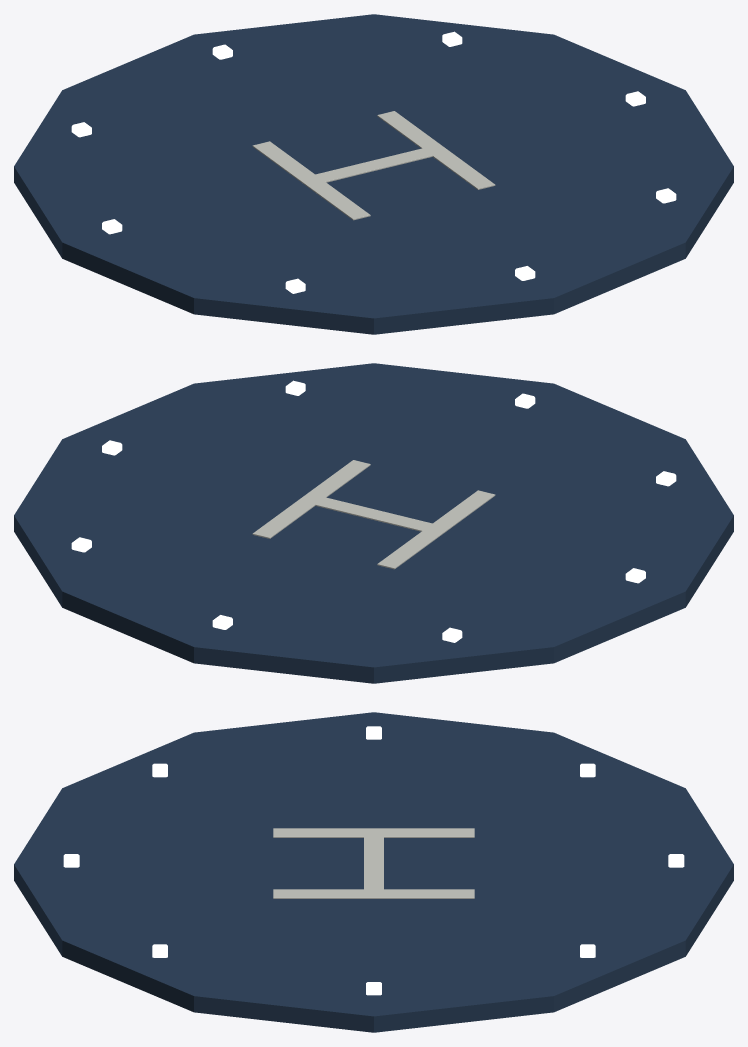
The model's file is landscape-landing-pad.lod0.glb.
3 renders of one model, top to bottom at view 1: azimuth 30°, elevation 25°; view 2: azimuth 150°, elevation 25°; view 3: azimuth 270°, elevation 25°, orthographic.
Parts seen in each view (by area): view 1: landscape-landing-pad__body; view 2: landscape-landing-pad__body; view 3: landscape-landing-pad__body.
Part boxes in pixels (<box>): landscape-landing-pad__body: <box>14,14,733,334</box>; landscape-landing-pad__body: <box>14,363,733,683</box>; landscape-landing-pad__body: <box>14,712,733,1032</box>.
Bounding box in the file's own units: 10 × 0.365 × 10.
